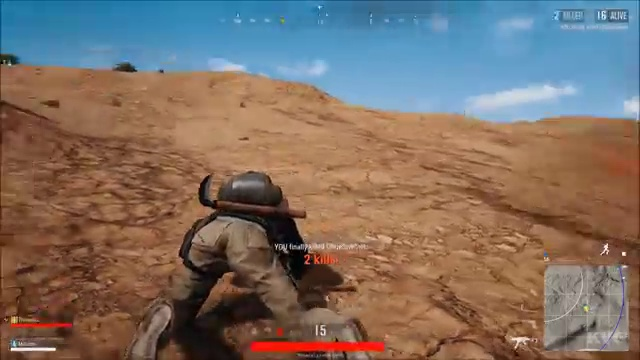Player: (147, 161, 319, 289)
